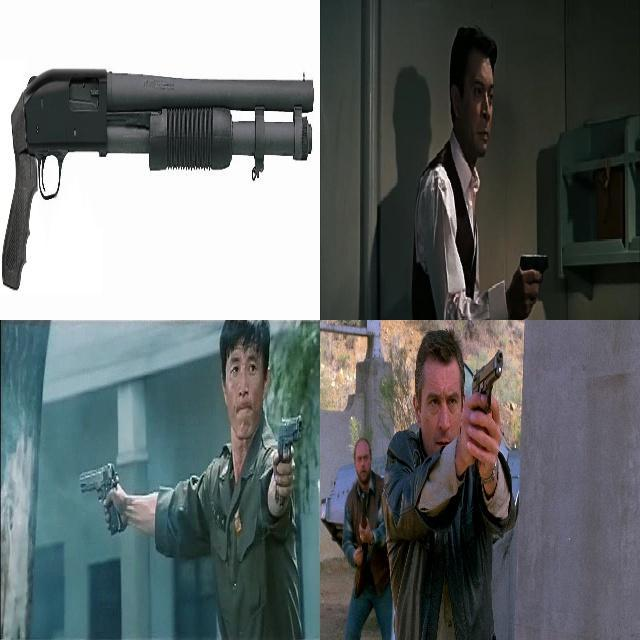gun-knife-thesis - v11 Yolov5 augmented: (0, 29, 313, 306), (460, 347, 510, 463), (73, 464, 123, 540), (271, 410, 305, 513), (516, 248, 550, 299)
